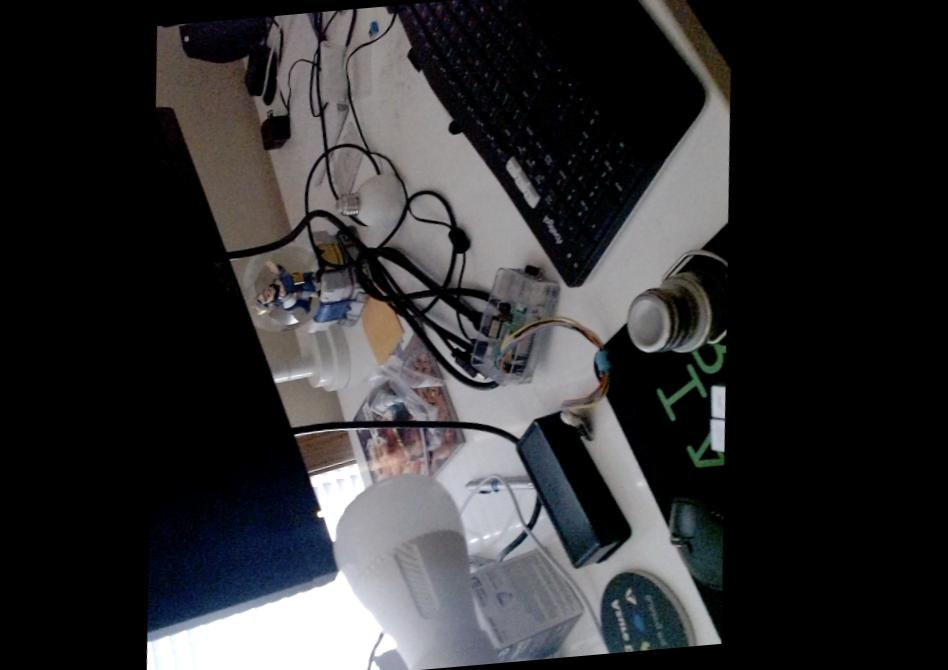Fan: (328, 465, 509, 670)
